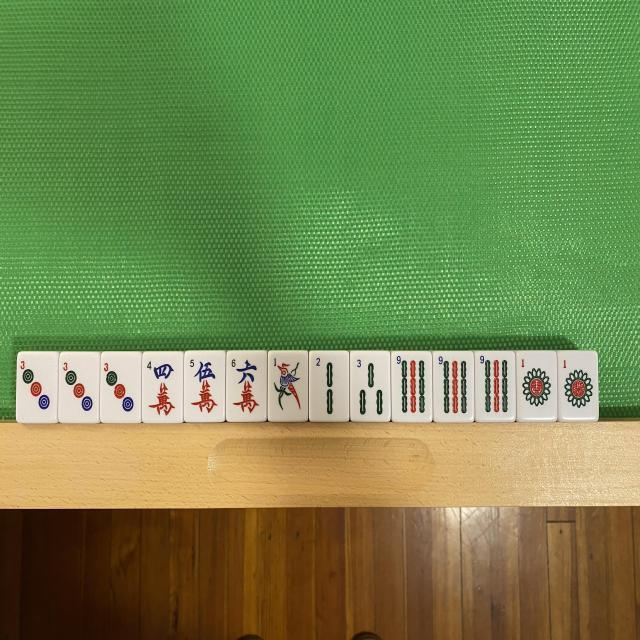sb1: (270, 354, 305, 418)
sb2: (312, 354, 348, 418)
sb3: (352, 354, 388, 419)
sb9: (476, 354, 514, 419), (436, 353, 472, 420), (394, 355, 429, 418)
sc4: (144, 356, 180, 422)
sc5: (185, 354, 222, 418)
sc6: (228, 354, 265, 419)
sd1: (561, 354, 596, 416), (520, 354, 554, 416)
sd3: (18, 356, 56, 419), (61, 356, 98, 418), (102, 357, 138, 419)
